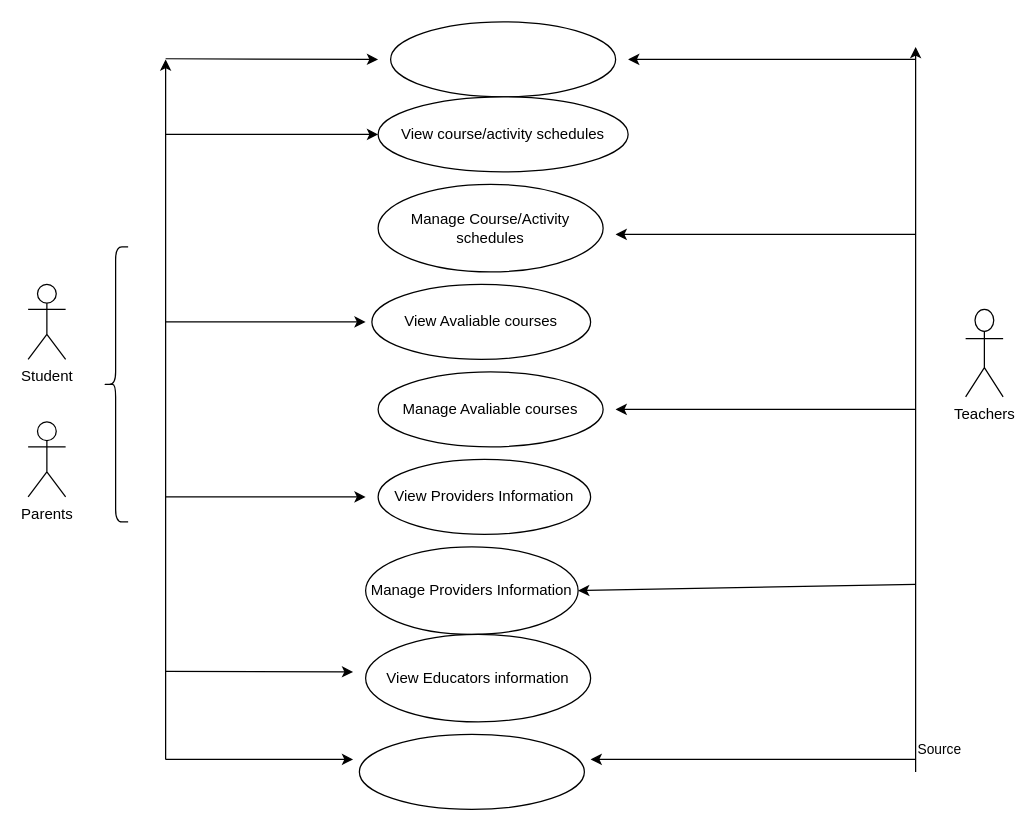
Image size: 1036x831. Some labels were removed from this diagram. The box of each missing label's shape, as (x1, y1, x2, y2) in pixels:
View & Manage enrolments: (358, 733, 584, 809)
View student information: (389, 21, 616, 97)
